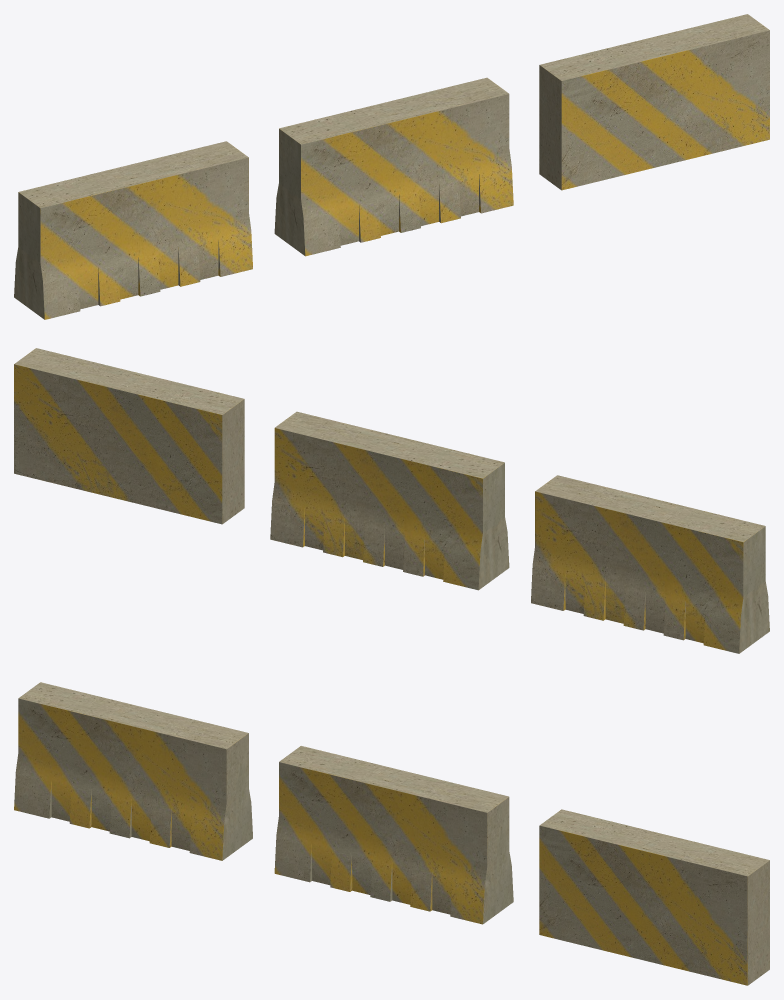
File: jersey.glb
3 renders of one model, top to bottom at view 1: azimuth 30°, elevation 25°; view 2: azimuth 150°, elevation 25°; view 3: azimuth 330°, elevation 25°, orthographic.
Parts seen in each view (by area): view 1: Cube, Cube.002, Cube.001; view 2: Cube, Cube.002, Cube.001; view 3: Cube, Cube.002, Cube.001.
Boxes of the visible parts, left/top/right/bottom form: Cube: left=274, top=77, right=513, bottom=256; Cube.002: left=14, top=141, right=252, bottom=319; Cube.001: left=539, top=14, right=769, bottom=190; Cube: left=270, top=411, right=509, bottom=590; Cube.002: left=531, top=475, right=769, bottom=653; Cube.001: left=14, top=348, right=244, bottom=524; Cube: left=274, top=746, right=513, bottom=924; Cube.002: left=14, top=682, right=252, bottom=860; Cube.001: left=539, top=809, right=769, bottom=985.
Size of the model in its own units: 3 by 0.43 by 0.2196.
3 materials, 3 textured.
